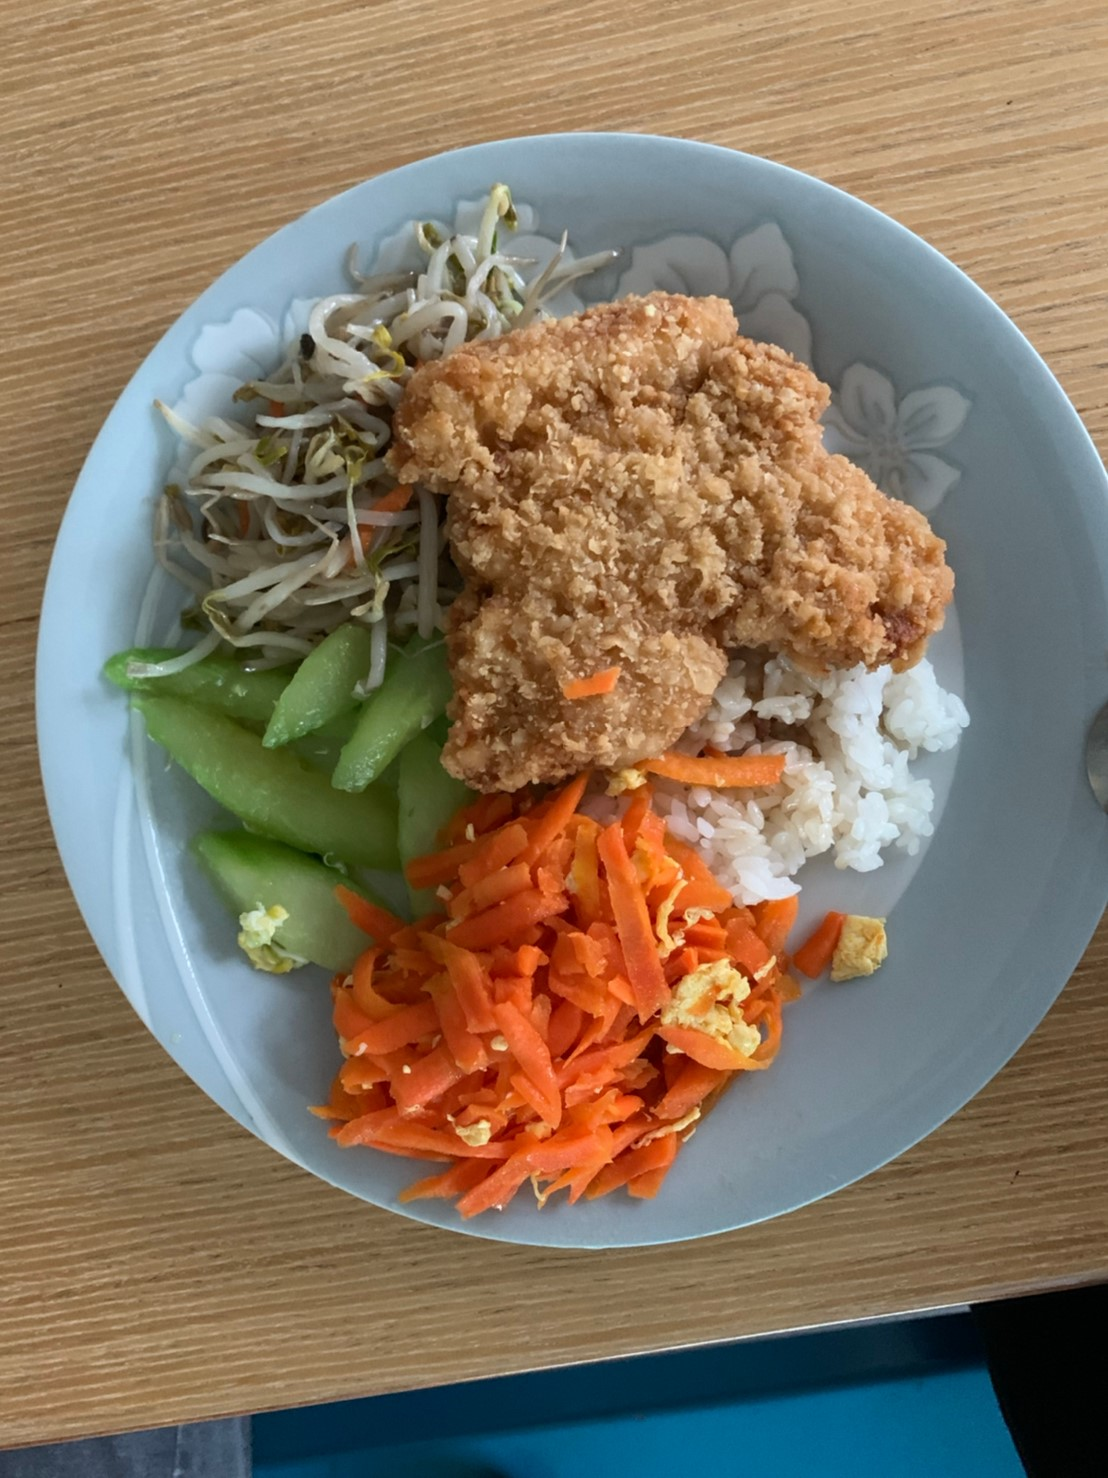carrot_eggs: (322, 796, 769, 1211)
fried_chicken: (395, 290, 958, 789)
mung_bean_sprouts: (170, 324, 376, 623)
rice: (654, 644, 971, 928)
